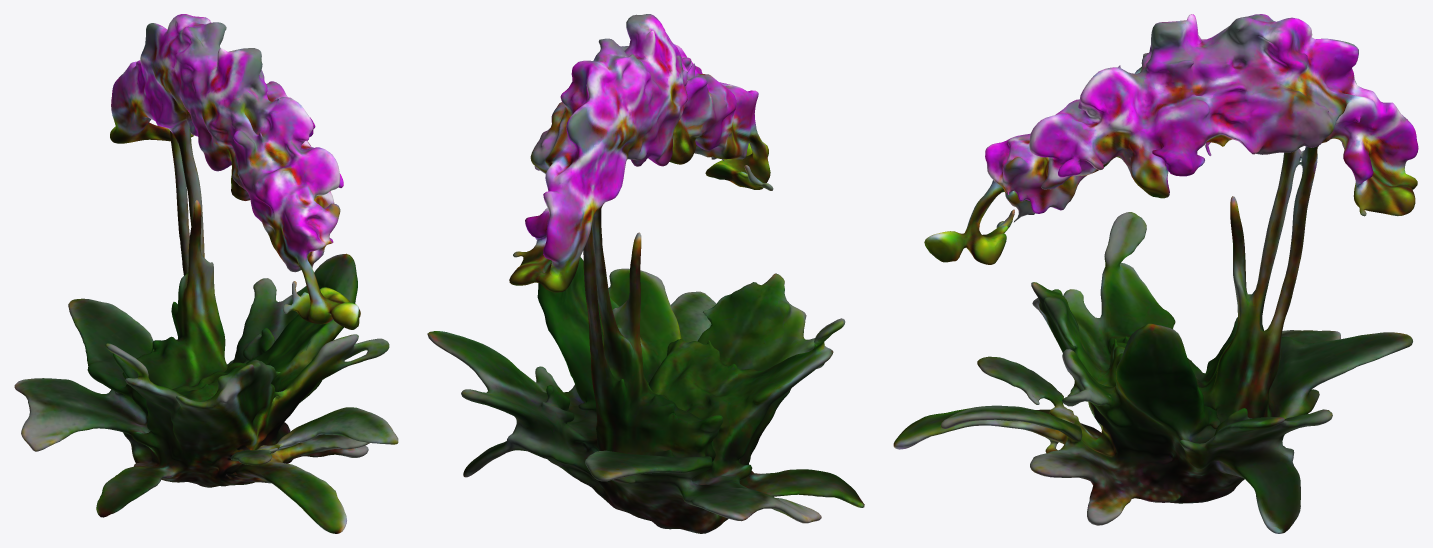
The model's file is wild_orchid.glb.
The picture shows the model from 3 angles, left to right: view 1: azimuth 30°, elevation 25°; view 2: azimuth 150°, elevation 25°; view 3: azimuth 270°, elevation 25°; orthographic projection. The views are drawn at different scales.
Visible parts, largest first — view 1: geometry_0; view 2: geometry_0; view 3: geometry_0.
Part boxes in pixels (x1,y1,x2,y2): geometry_0: (14,14,398,533); geometry_0: (427,14,864,533); geometry_0: (893,14,1418,533).
Bounding box in the file's own units: 0.3638 × 0.4515 × 0.4382.
1 material, 1 textured.
